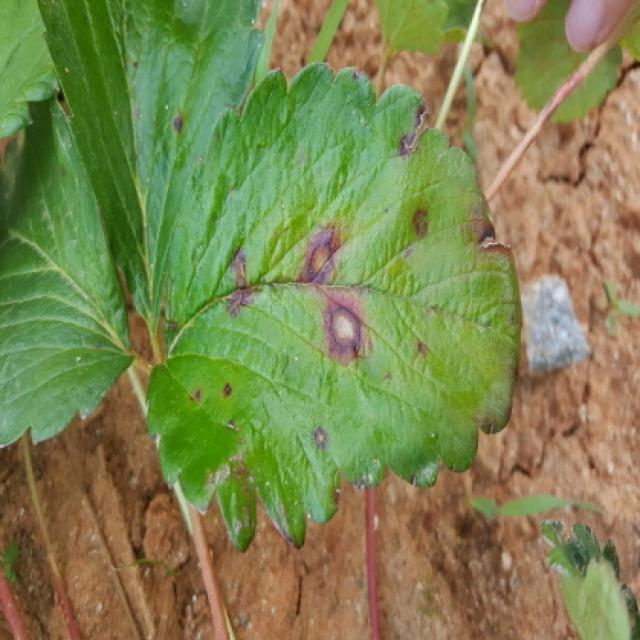Leaf Spot: (142, 63, 521, 556), (38, 0, 268, 344)
